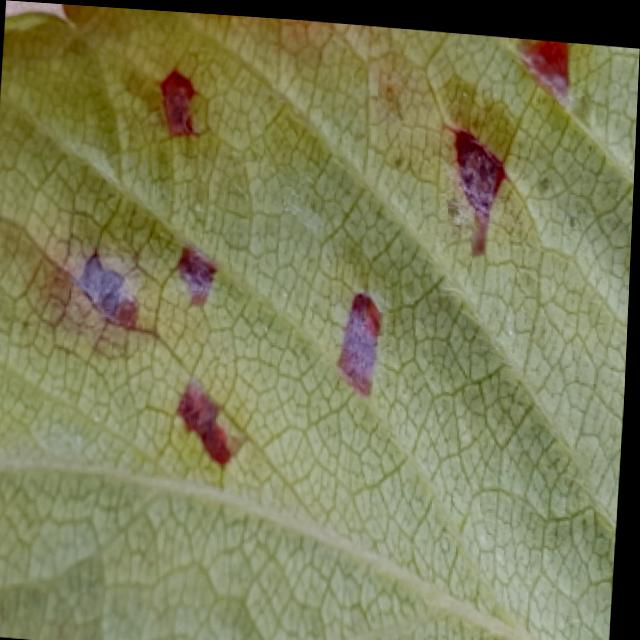Angular Leafspot: (0, 3, 640, 467)
